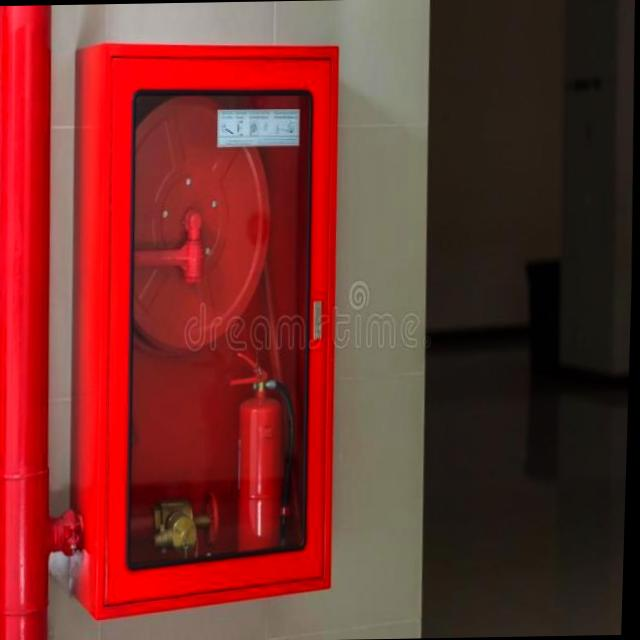FireExtinguisher: (221, 342, 308, 574)
